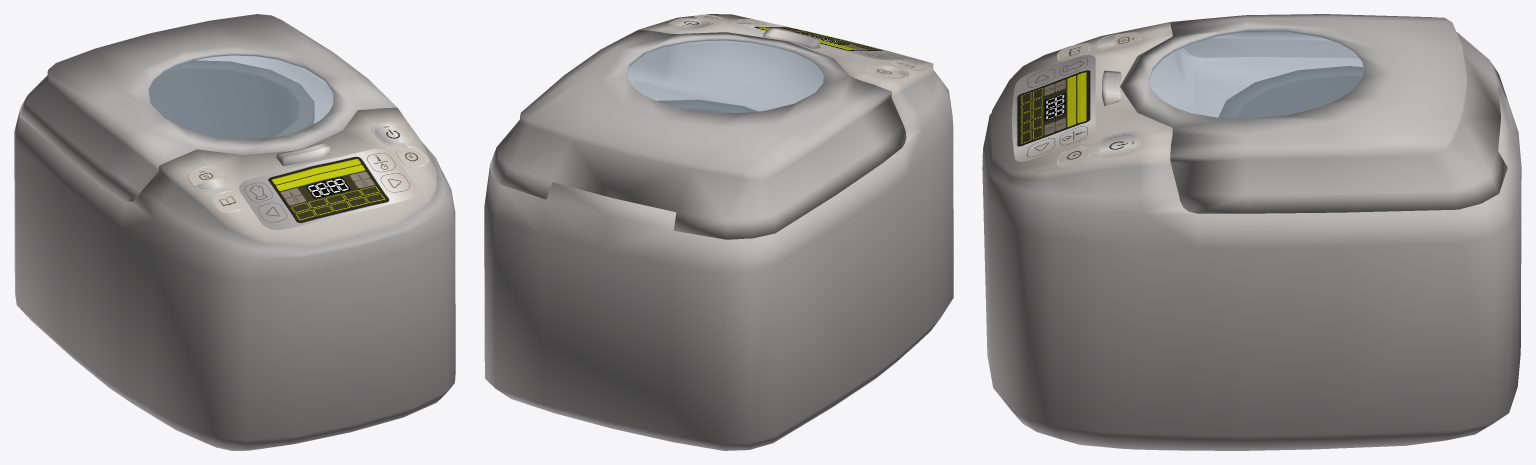
The model's file is scopia-cooker-quality-v2.glb.
3 renders of one model, left to right at view 1: azimuth 30°, elevation 25°; view 2: azimuth 150°, elevation 25°; view 3: azimuth 270°, elevation 25°, orthographic. The views are drawn at different scales.
Parts seen in each view (by area): view 1: Base_Cube, sweethome3d_opening_on_hinge_1_top, sweethome3d_opening_on_hinge_1_glass, pot_Circle, Controls_Plane, Controls2_Plane.002, Button_Plane.001; view 2: Base_Cube, sweethome3d_opening_on_hinge_1_top, sweethome3d_opening_on_hinge_1_glass, Controls_Plane, Controls2_Plane.002, pot_Circle, Button_Plane.001; view 3: Base_Cube, sweethome3d_opening_on_hinge_1_top, sweethome3d_opening_on_hinge_1_glass, Controls_Plane, pot_Circle, Controls2_Plane.002, Button_Plane.001.
Boxes of the visible parts, x1=… form: Base_Cube: x1=14, y1=56, x2=455, y2=450; sweethome3d_opening_on_hinge_1_top: x1=20, y1=14, x2=396, y2=202; sweethome3d_opening_on_hinge_1_glass: x1=148, y1=53, x2=333, y2=138; pot_Circle: x1=149, y1=60, x2=314, y2=138; Controls_Plane: x1=239, y1=149, x2=417, y2=229; Controls2_Plane.002: x1=187, y1=122, x2=429, y2=213; Button_Plane.001: x1=276, y1=143, x2=329, y2=165; Base_Cube: x1=484, y1=14, x2=953, y2=450; sweethome3d_opening_on_hinge_1_top: x1=490, y1=29, x2=906, y2=239; sweethome3d_opening_on_hinge_1_glass: x1=627, y1=38, x2=823, y2=113; Controls_Plane: x1=723, y1=18, x2=912, y2=59; Controls2_Plane.002: x1=668, y1=14, x2=925, y2=78; pot_Circle: x1=657, y1=100, x2=757, y2=112; Button_Plane.001: x1=763, y1=27, x2=819, y2=48; Base_Cube: x1=982, y1=22, x2=1521, y2=450; sweethome3d_opening_on_hinge_1_top: x1=1120, y1=14, x2=1507, y2=213; sweethome3d_opening_on_hinge_1_glass: x1=1148, y1=29, x2=1364, y2=118; Controls_Plane: x1=1012, y1=55, x2=1095, y2=161; pot_Circle: x1=1218, y1=66, x2=1363, y2=118; Controls2_Plane.002: x1=1057, y1=31, x2=1140, y2=166; Button_Plane.001: x1=1102, y1=70, x2=1121, y2=105.
Size of the model in its own units: 0.289 by 0.271 by 0.4.
Materials: 6 (2 with a texture image).
